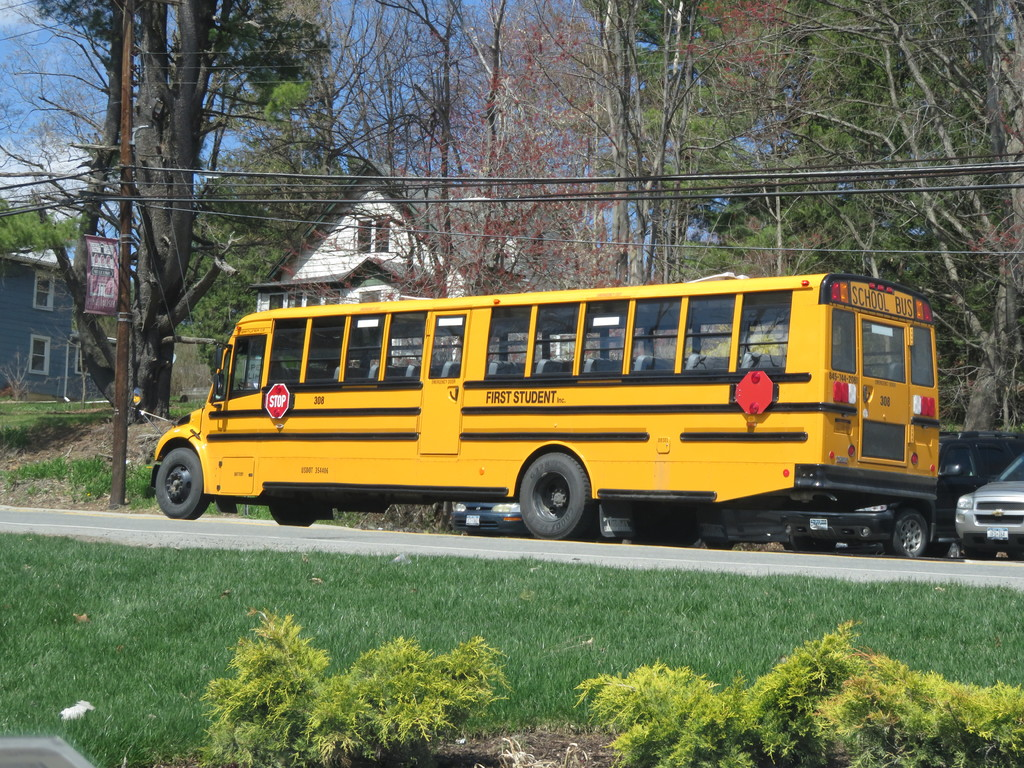Car: (955, 454, 1023, 561)
